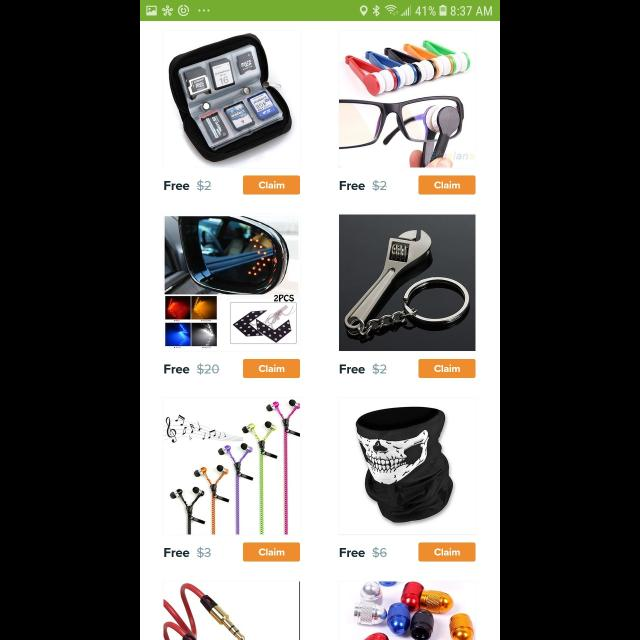image: (162, 30, 302, 170), (162, 396, 302, 536), (338, 31, 476, 169), (163, 214, 301, 352), (338, 398, 477, 534), (339, 215, 476, 352), (338, 580, 477, 640), (164, 580, 300, 640)
text: (164, 363, 220, 375), (164, 180, 212, 192), (340, 180, 388, 192), (340, 363, 388, 375), (164, 547, 212, 559), (340, 546, 388, 558)
textbutton: (418, 542, 476, 562), (243, 542, 300, 562), (418, 359, 476, 378), (418, 177, 476, 196), (243, 359, 300, 378), (243, 176, 300, 194)
uppertaskbar: (140, 1, 500, 22)
